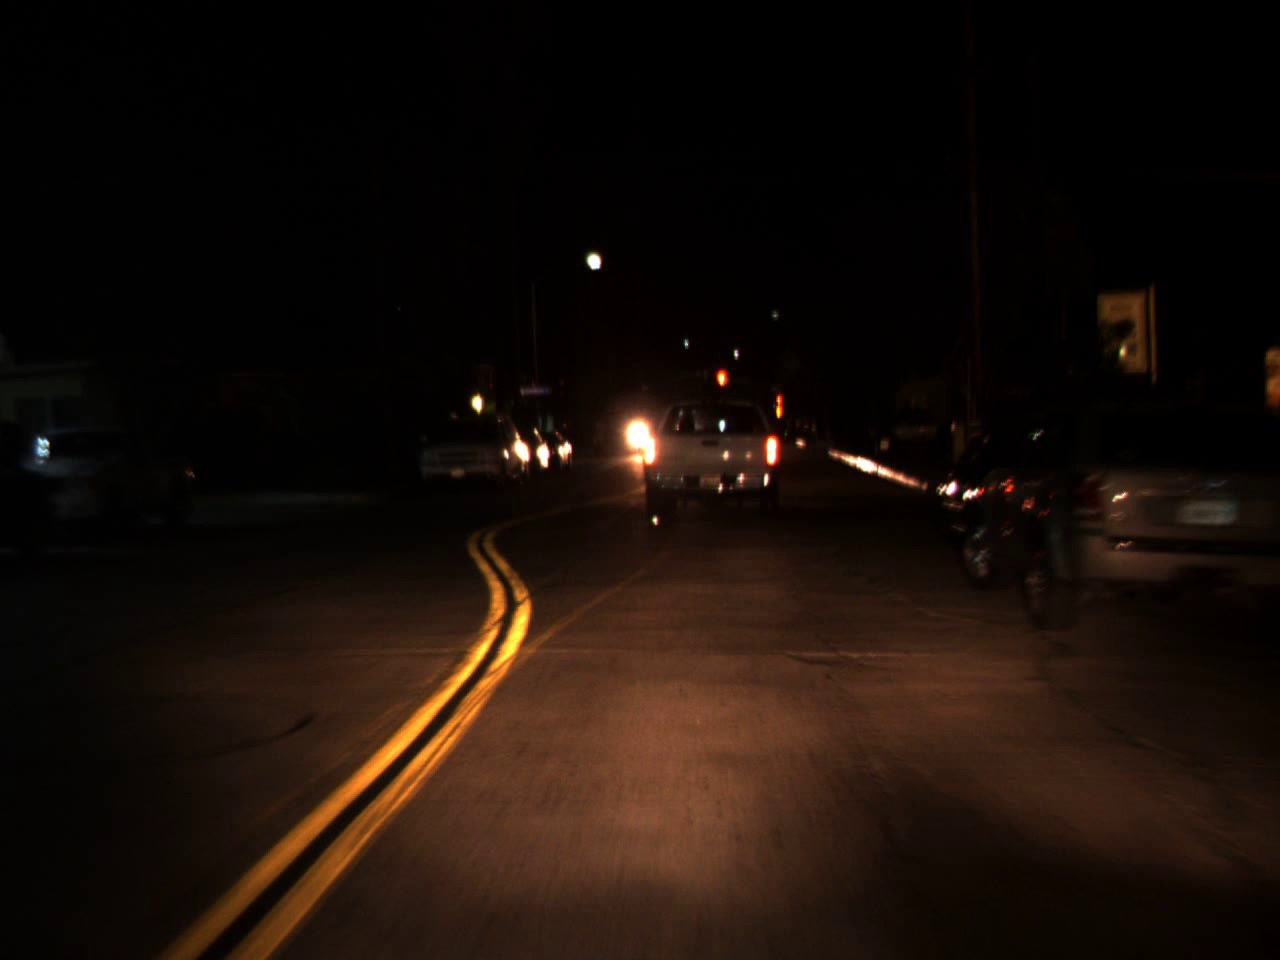stop: (714, 366, 729, 409), (773, 391, 786, 415)
